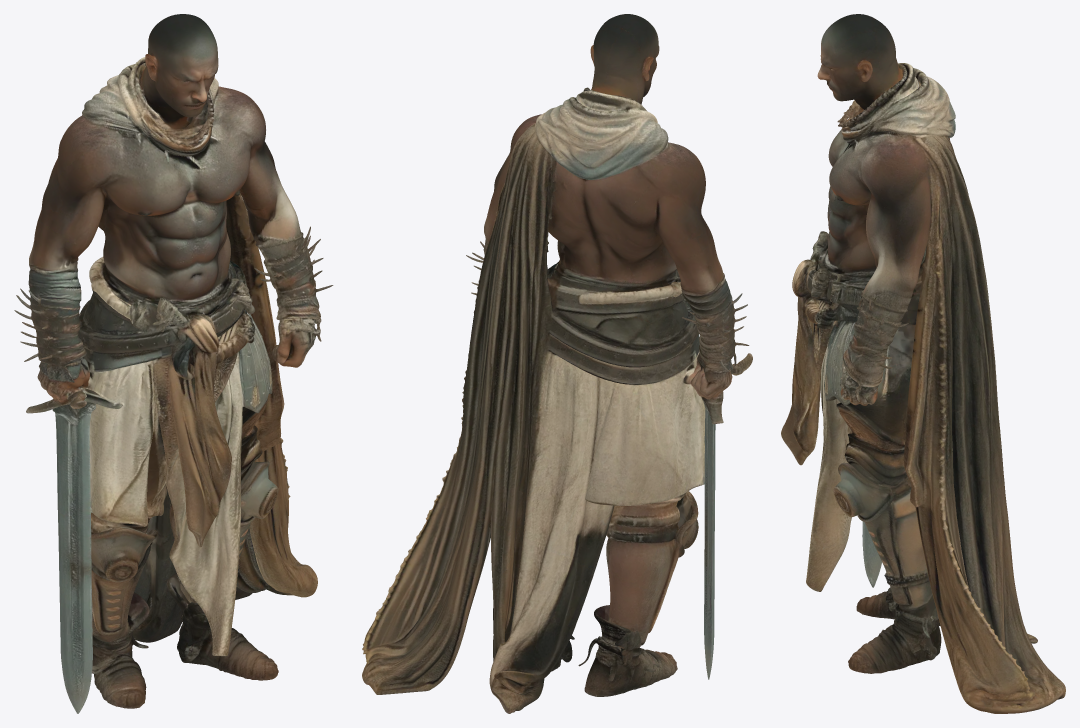
The model's file is humanwarrior1.glb.
The picture shows the model from 3 angles, left to right: view 1: azimuth 30°, elevation 25°; view 2: azimuth 150°, elevation 25°; view 3: azimuth 270°, elevation 25°; orthographic projection. The views are drawn at different scales.
Bounding box in the file's own units: 0.9807 × 1.9 × 0.7988.
Materials: 1 (1 with a texture image).
